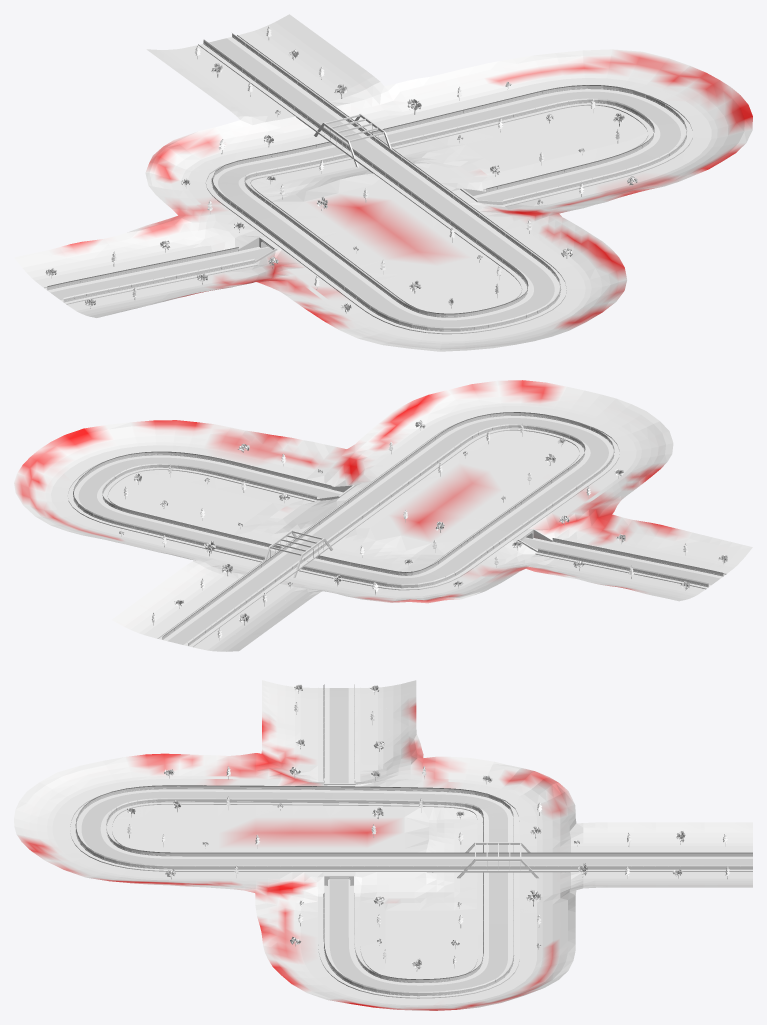
The picture shows the model from 3 angles, top to bottom: view 1: azimuth 30°, elevation 25°; view 2: azimuth 150°, elevation 25°; view 3: azimuth 270°, elevation 25°; orthographic projection. The views are drawn at different scales.
Visible parts, largest first — view 1: Grass, Road, Track, Wirefence, Trees; view 2: Grass, Road, Track, Wirefence, Trees; view 3: Grass, Road, Track, Wirefence, Trees.
Part boxes in pixels (x1,y1,x2,y2): Grass: (14,14,752,351); Road: (50,38,680,326); Track: (44,34,692,334); Wirefence: (47,33,686,330); Trees: (45,26,637,313); Grass: (14,380,752,651); Road: (78,418,720,644); Track: (67,412,726,647); Wirefence: (73,412,723,644); Trees: (119,420,727,640); Grass: (14,680,752,1010); Road: (81,688,752,991); Track: (70,687,752,998); Wirefence: (75,684,752,995); Trees: (126,684,729,971).
Size of what is drawn, in the model's own units: 69984 by 2484 by 66976.
